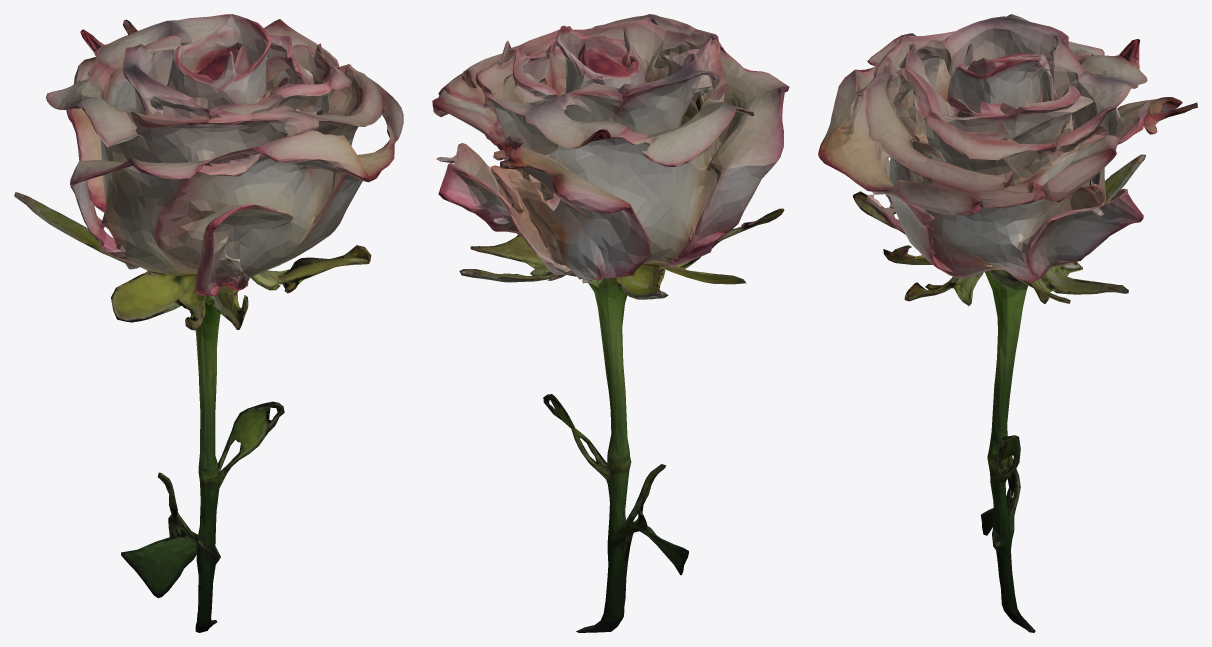
3 renders of one model, left to right at view 1: azimuth 30°, elevation 25°; view 2: azimuth 150°, elevation 25°; view 3: azimuth 270°, elevation 25°, orthographic. The views are drawn at different scales.
Parts seen in each view (by area): view 1: world; view 2: world; view 3: world.
Part boxes in pixels (x1,y1,x2,y2): world: (14,14,403,632); world: (432,14,789,632); world: (818,14,1197,632).
Size of the model in its own units: 0.5472 by 0.9673 by 0.5686.
Materials: 1 (1 with a texture image).
